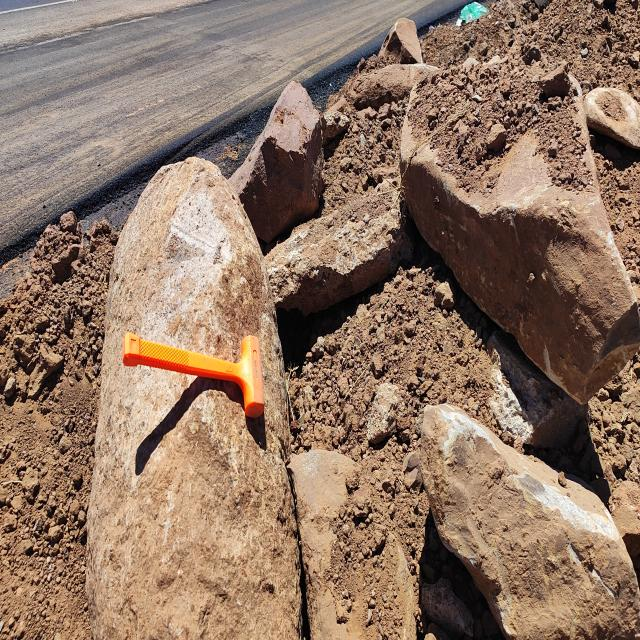Orange_hammer: (121, 329, 265, 420)
